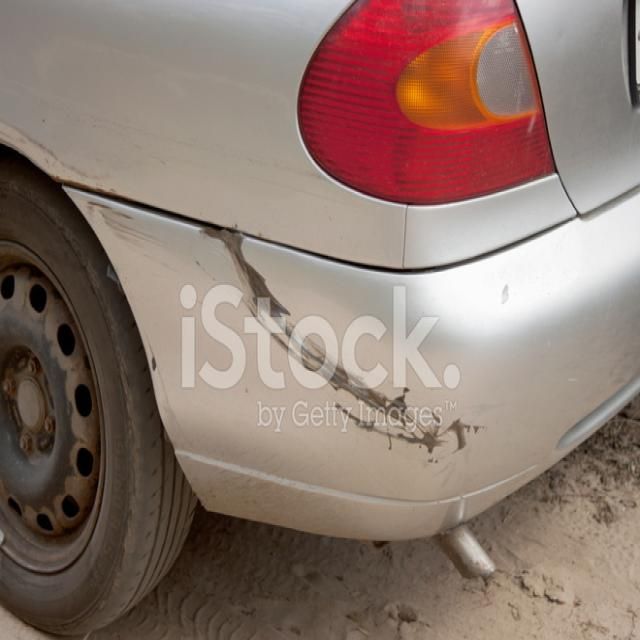scratch: (72, 187, 496, 473), (0, 117, 123, 194), (150, 351, 160, 373)
